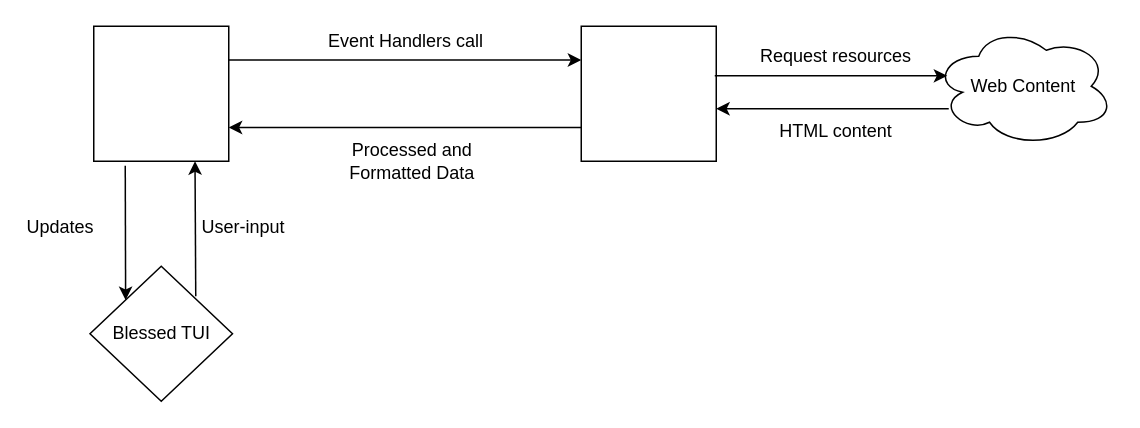
This 1140x428 diagram has some shape labels left out. Here are the shapes that lost their labels. From the top down, the centre of each, then its label:
At [160,93]: "Blessed Client".
At [648,93]: "Backend Class".
